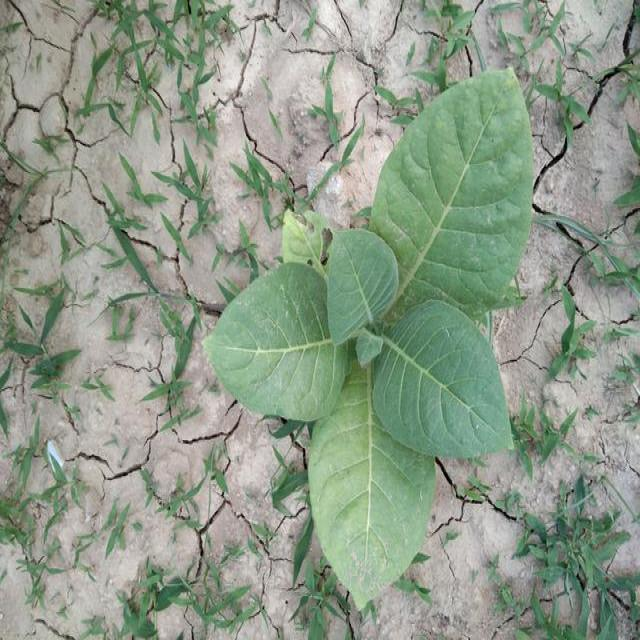crop: (198, 58, 536, 618)
